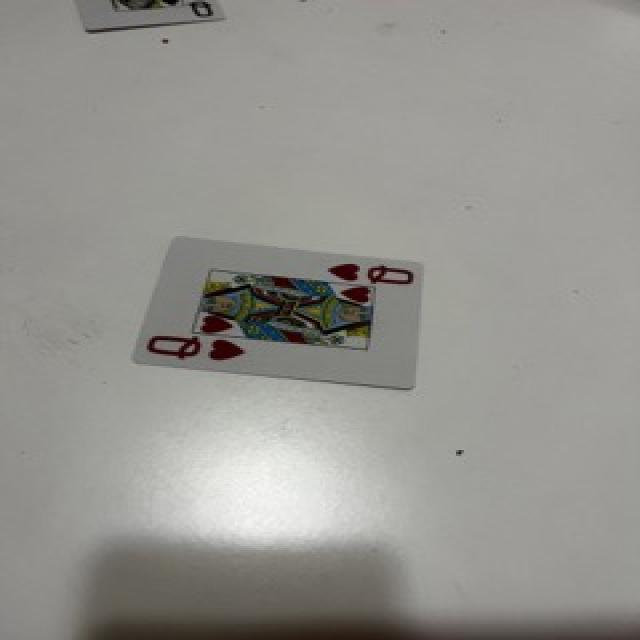Queen of hearts: (133, 236, 419, 389)
